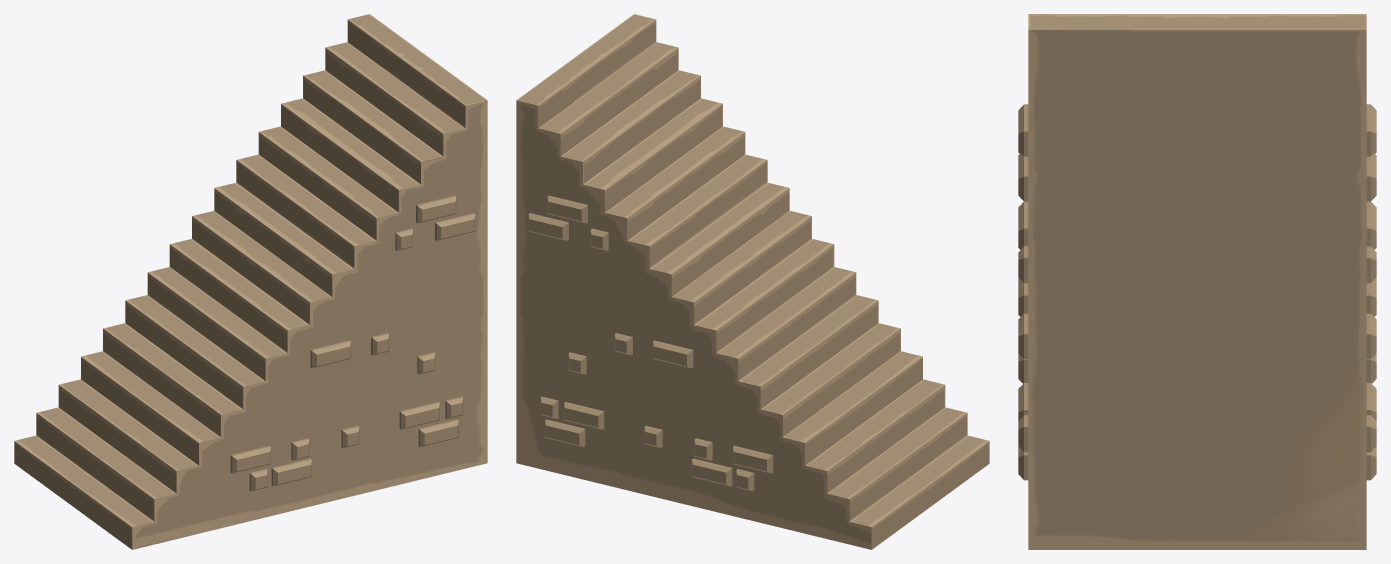
3 renders of one model, left to right at view 1: azimuth 30°, elevation 25°; view 2: azimuth 150°, elevation 25°; view 3: azimuth 270°, elevation 25°, orthographic. The views are drawn at different scales.
Visible parts, largest first — view 1: Cube.009; view 2: Cube.009; view 3: Cube.009.
Boxes of the visible parts, x1,y1,x2,y2 form: Cube.009: [14, 14, 487, 549]; Cube.009: [516, 14, 989, 549]; Cube.009: [1018, 14, 1376, 549].
Size of the model in its own units: 320 by 312 by 195.
Materials: 1 (1 with a texture image).
